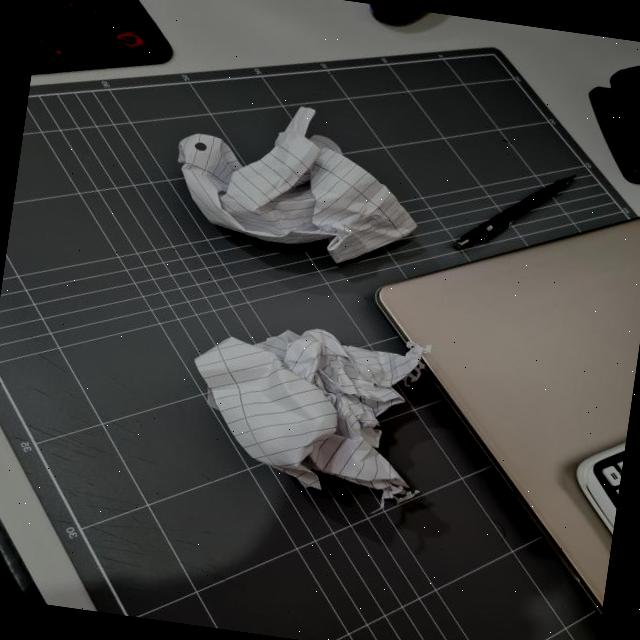trash: (184, 313, 432, 505), (158, 93, 424, 272)
